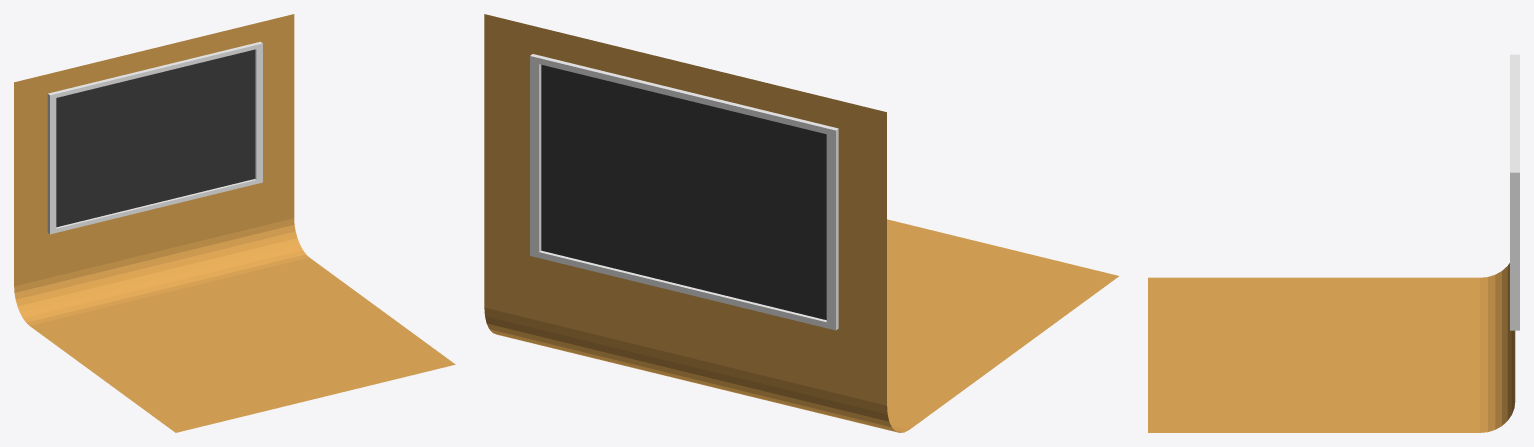
Rendered from background_old.fbx.
3 views of the same model, side by side, from view 1: azimuth 30°, elevation 25°; view 2: azimuth 150°, elevation 25°; view 3: azimuth 270°, elevation 25° (orthographic). The views are drawn at different scales.
Visible parts, largest first — view 1: Fal, Tabla, Keret; view 2: Fal, Tabla, Keret; view 3: Fal, Keret.
Boxes of the visible parts, x1,y1,x2,y2 form: Fal: [14, 14, 455, 432]; Tabla: [56, 49, 254, 227]; Keret: [47, 41, 262, 234]; Fal: [484, 14, 1118, 432]; Tabla: [541, 64, 826, 319]; Keret: [530, 54, 838, 330]; Fal: [1148, 263, 1515, 432]; Keret: [1510, 54, 1519, 330].
Size of the model in its own units: 500 by 396 by 506.
